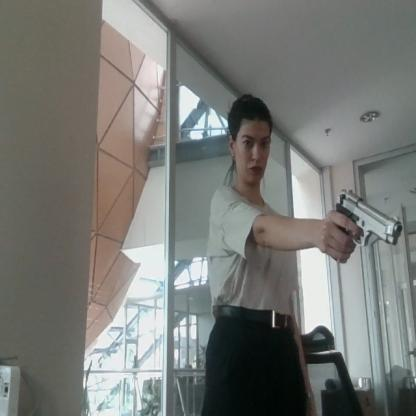handgun: (323, 180, 413, 320)
